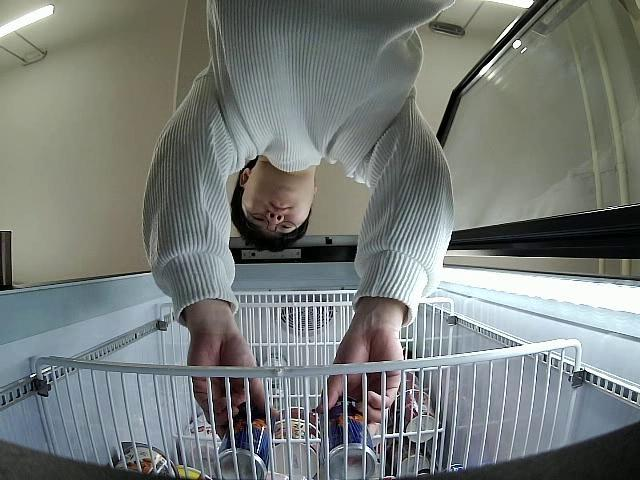16_hot6: (322, 397, 379, 480), (216, 405, 274, 480)
